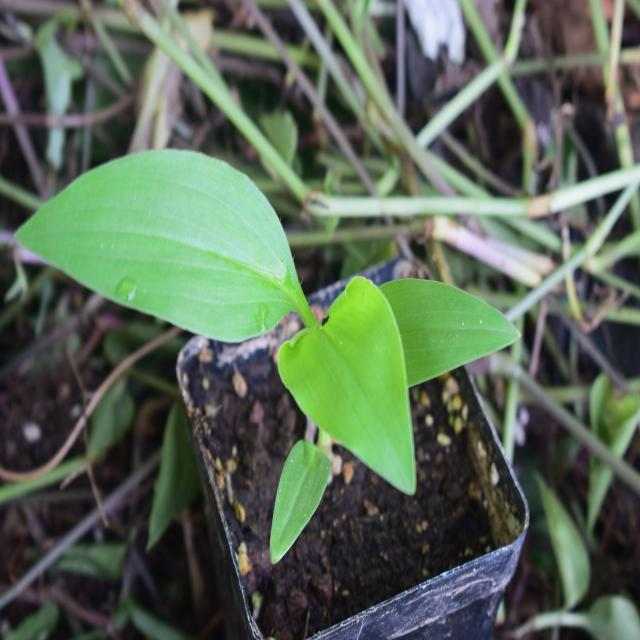Common Dayflower: (21, 146, 520, 514)
